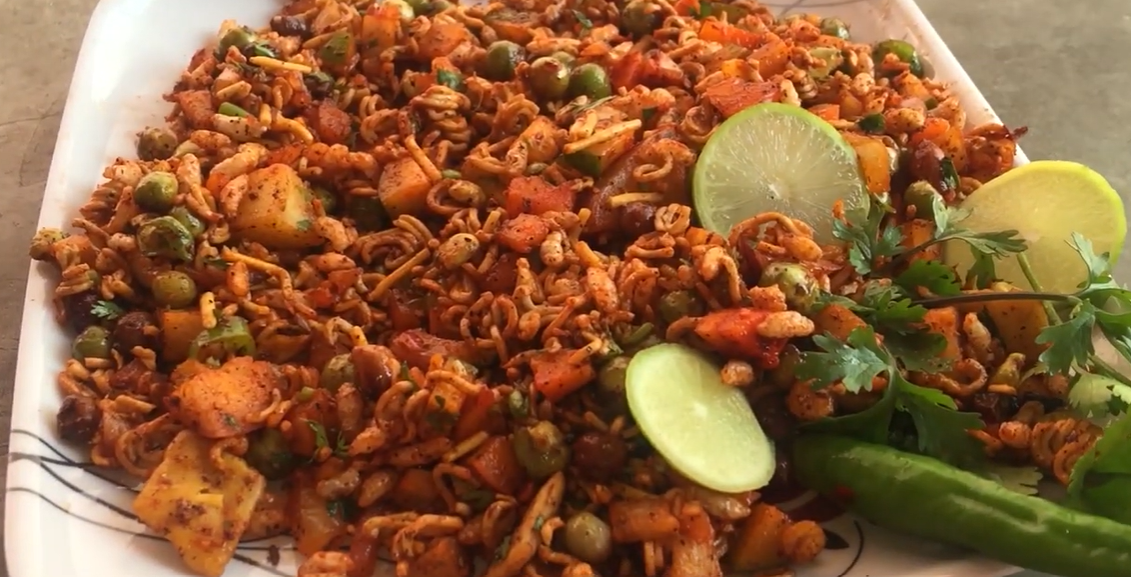chatpate: (148, 36, 998, 523)
